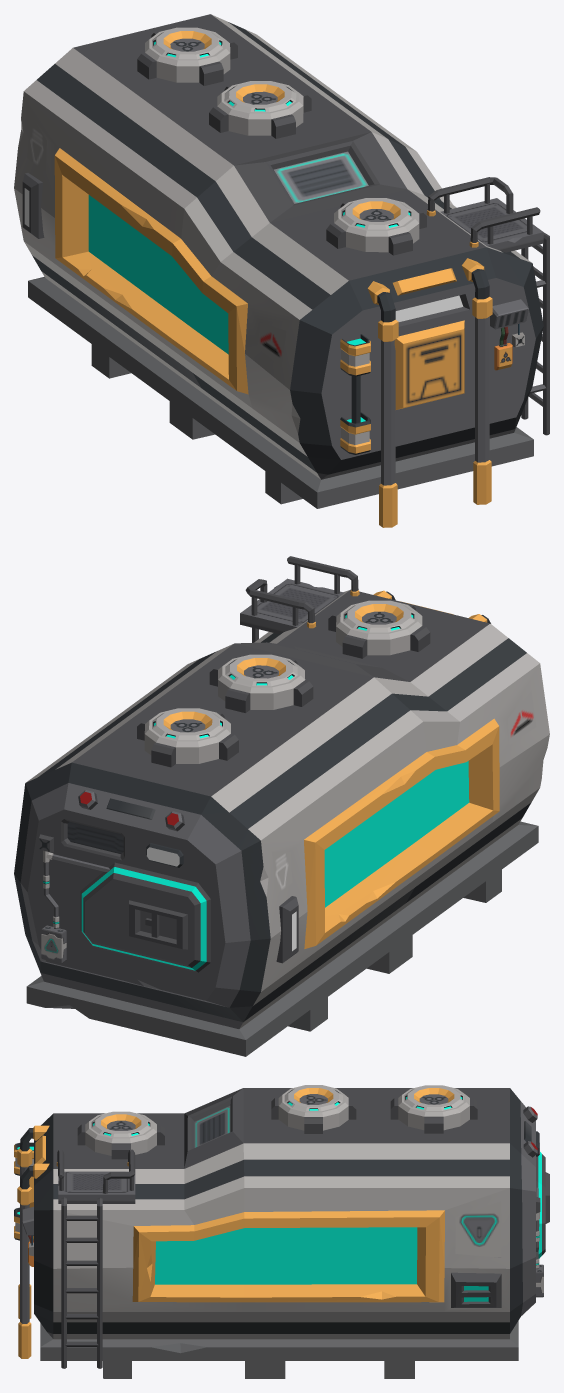
File: SM_Veh_Truck_01_Module_02.fbx
3 renders of one model, top to bottom at view 1: azimuth 30°, elevation 25°; view 2: azimuth 150°, elevation 25°; view 3: azimuth 270°, elevation 25°, orthographic. The views are drawn at different scales.
Visible parts, largest first — view 1: SM_Veh_Truck_01_Module_02; view 2: SM_Veh_Truck_01_Module_02; view 3: SM_Veh_Truck_01_Module_02.
Part boxes in pixels (x1,y1,x2,y2): SM_Veh_Truck_01_Module_02: (14, 14, 549, 527); SM_Veh_Truck_01_Module_02: (14, 556, 549, 1056); SM_Veh_Truck_01_Module_02: (14, 1085, 549, 1378).
Bounding box in the file's own units: 336 × 344 × 694.
